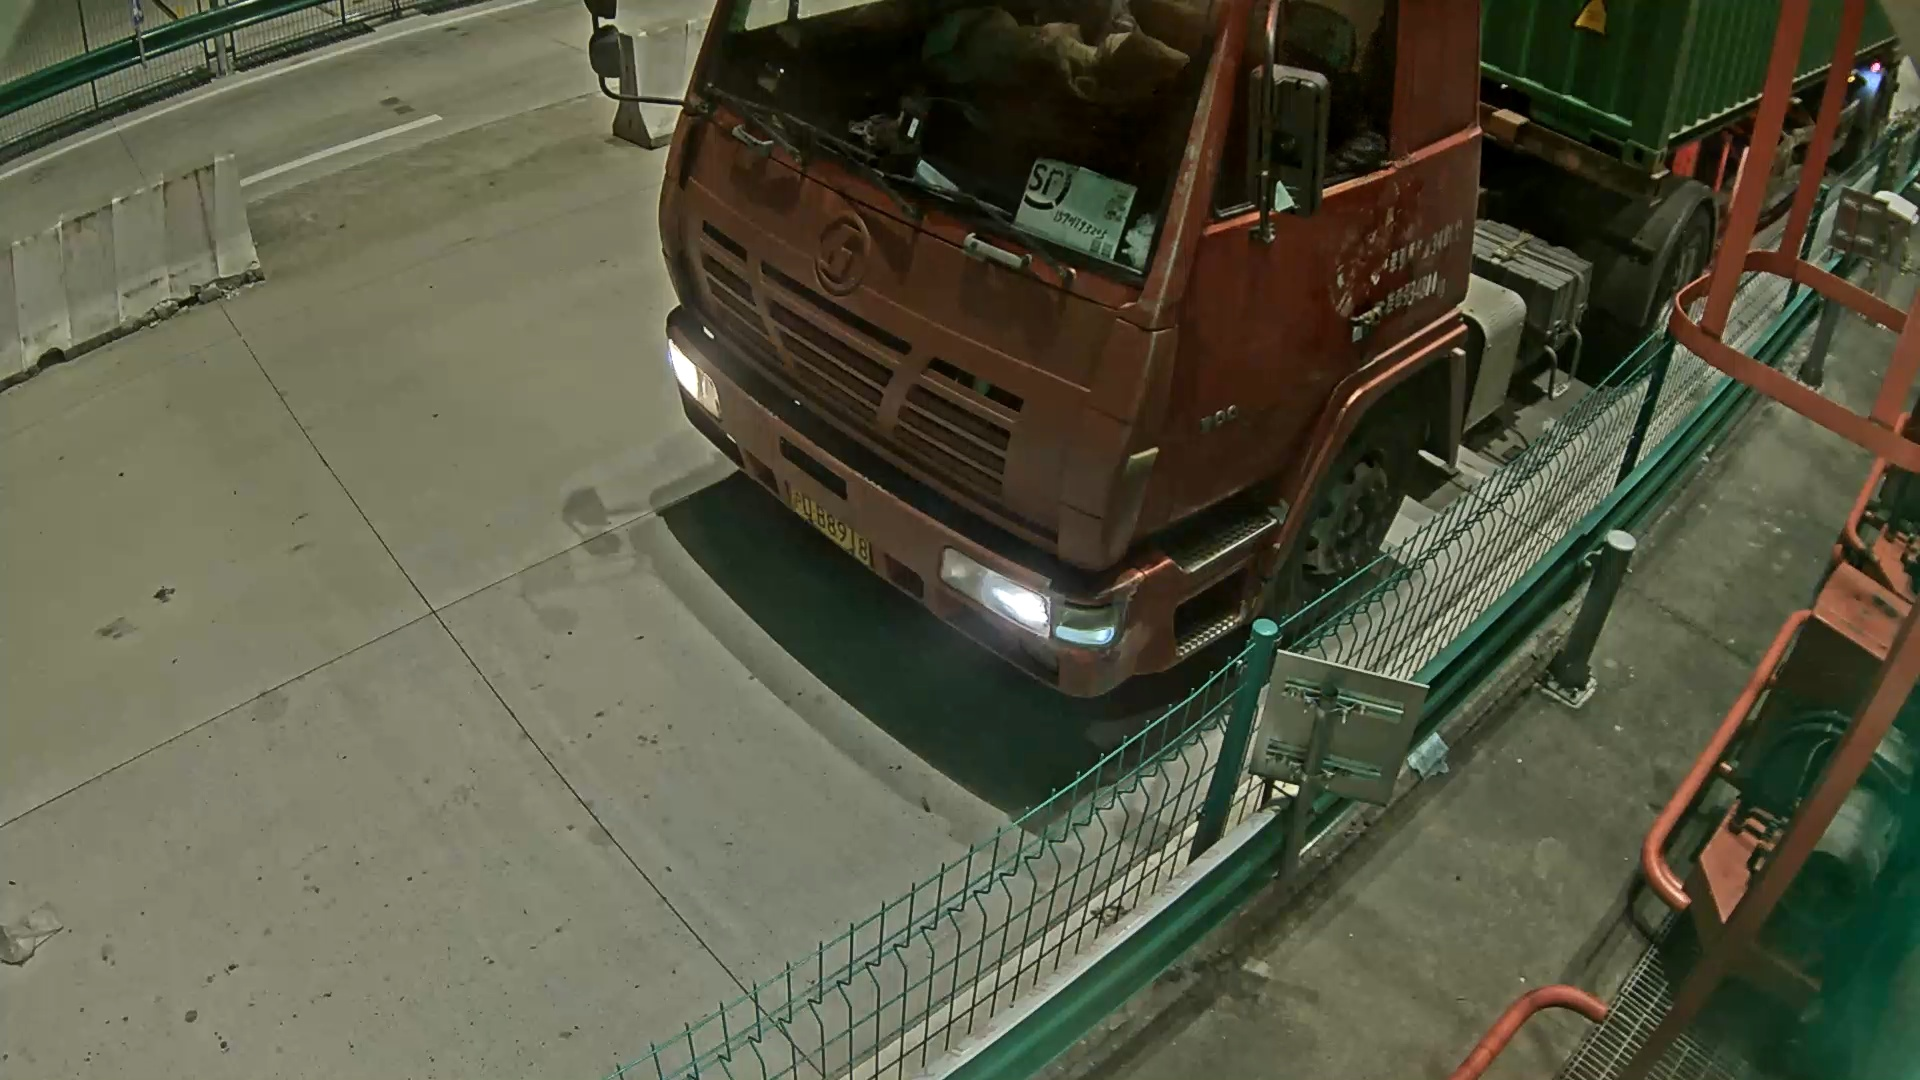head: (651, 1, 1484, 706)
plate: (782, 480, 872, 575)
